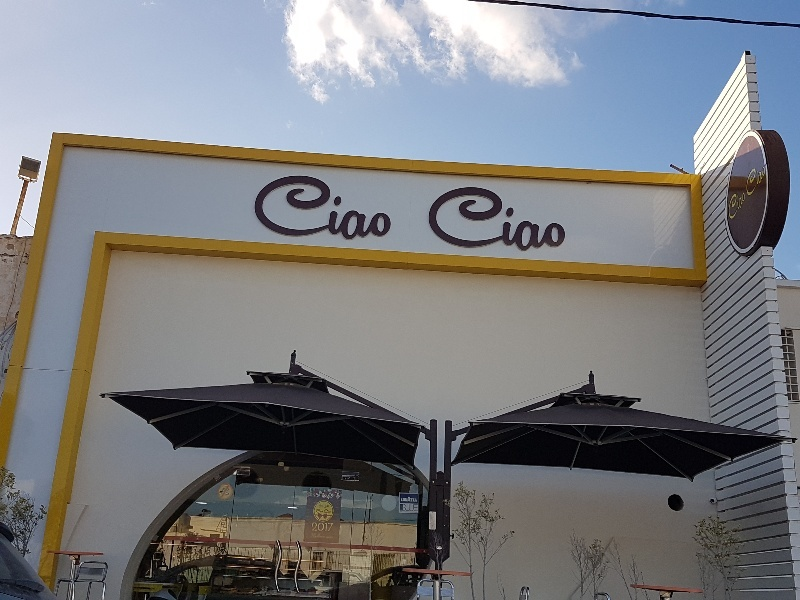text: (257, 173, 272, 244), (273, 173, 288, 244), (289, 173, 304, 244), (305, 173, 320, 244), (321, 173, 336, 244), (337, 173, 352, 244), (353, 173, 368, 244), (369, 173, 384, 244), (433, 184, 448, 254), (449, 184, 464, 254), (465, 184, 480, 254), (481, 184, 496, 254), (497, 184, 512, 254), (513, 184, 528, 254), (529, 184, 544, 254), (545, 184, 560, 254), (385, 173, 395, 244), (753, 162, 768, 199), (561, 184, 568, 254), (725, 185, 736, 222), (737, 185, 748, 222), (742, 162, 752, 199), (427, 184, 432, 254), (321, 522, 334, 532), (402, 504, 416, 512), (321, 532, 334, 539), (312, 522, 320, 532), (401, 497, 416, 502), (311, 532, 320, 539), (324, 509, 336, 514), (321, 504, 330, 508), (316, 509, 320, 514), (417, 504, 419, 512), (321, 509, 323, 514), (319, 504, 320, 508)
